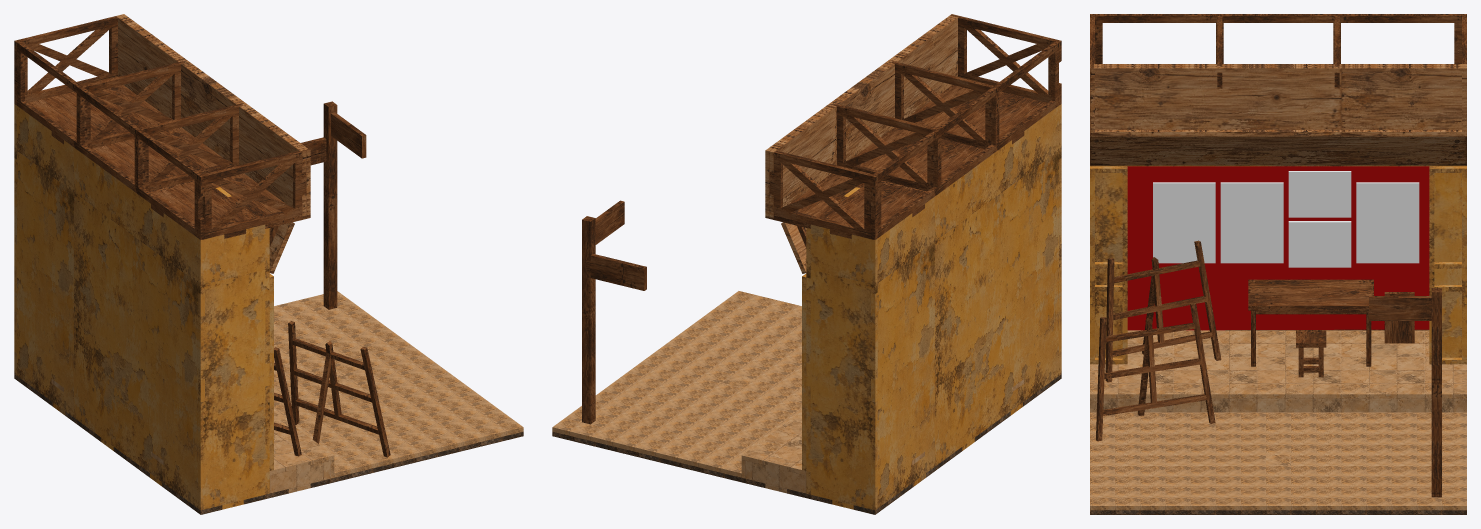
File: Hang-Trong-Model.glb
The picture shows the model from 3 angles, left to right: view 1: azimuth 30°, elevation 25°; view 2: azimuth 150°, elevation 25°; view 3: azimuth 270°, elevation 25°; orthographic projection.
Parts seen in each view (by area): view 1: 34689, Component#1 (×2), 34694, 34695, Component#6 (×2), Component#21 (×3), 34709, 34685, 30599, 34691, Component#13, 34705 (+6 smaller); view 2: 34689, Component#1 (×2), 34694, 34695, Component#6 (×2), 34685, 34716, 34691, 34711, Component#13, 34705, 34698 (+3 smaller); view 3: 34689, 34694, 34691, 34696, 34698, 34705, 34715, 34708, Component#5 (×2), 34693, 34707, 33802 (+12 smaller).
Boxes of the visible parts, box(x1,y1,x2,y2) form: 34689: box(14, 41, 204, 508); Component#1 (×2): box(14, 16, 306, 510); 34694: box(116, 15, 306, 219); 34695: box(28, 85, 301, 238); Component#6 (×2): box(82, 61, 242, 191); Component#21 (×3): box(274, 321, 390, 457); 34709: box(326, 103, 337, 309); 34685: box(14, 374, 523, 514); 30599: box(292, 338, 378, 434); 34691: box(51, 379, 334, 475); Component#13: box(269, 459, 329, 493); 34705: box(120, 14, 310, 218); 34689: box(871, 41, 1061, 508); Component#1 (×2): box(769, 16, 1061, 510); 34694: box(769, 15, 959, 219); 34695: box(774, 85, 1047, 238); Component#6 (×2): box(833, 61, 993, 191); 34685: box(552, 374, 1061, 514); 34716: box(582, 218, 592, 424); 34691: box(741, 379, 1024, 475); 34711: box(586, 253, 646, 290); Component#13: box(746, 459, 806, 493); 34705: box(765, 14, 955, 218); 34698: box(806, 187, 859, 494); 34689: box(1095, 14, 1461, 330); 34694: box(1090, 64, 1466, 129); 34691: box(1090, 330, 1466, 398); 34696: box(1090, 136, 1466, 165); 34698: box(1090, 165, 1466, 357); 34705: box(1090, 66, 1466, 136); 34715: box(1356, 182, 1419, 263); 34708: box(1220, 182, 1283, 263); Component#5 (×2): box(1090, 166, 1466, 364); 34693: box(1090, 392, 1466, 412); 34707: box(1153, 182, 1215, 263); 33802: box(1248, 279, 1373, 310).
Bounding box in the file's own units: 0.15 × 0.15 × 0.15.
Materials: 967 (923 with a texture image).
